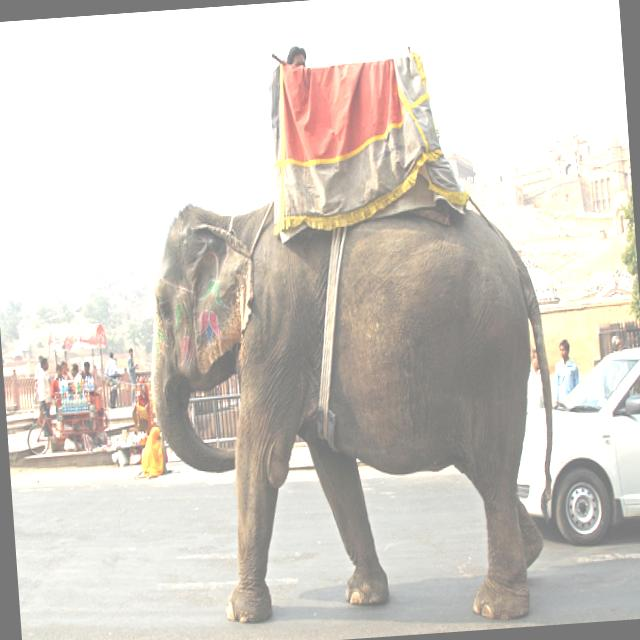Vehicle: (505, 341, 640, 552)
